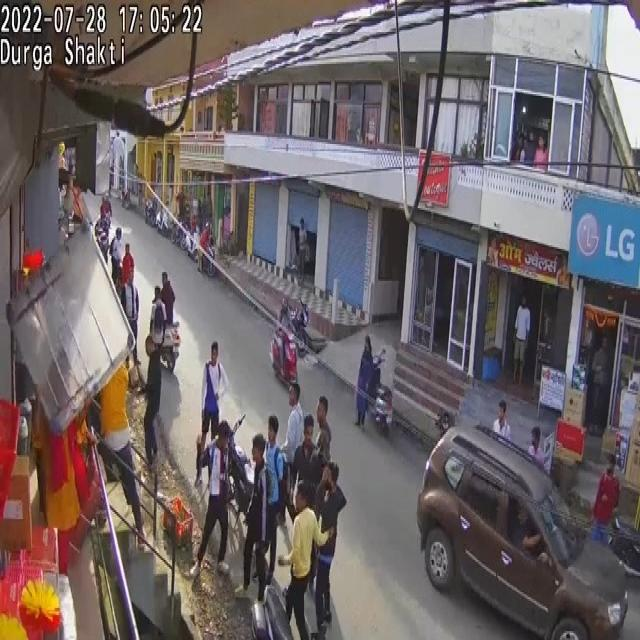fight: (196, 356, 346, 635), (21, 243, 142, 575)
non-fight: (278, 481, 334, 640), (190, 426, 233, 581), (312, 461, 347, 631), (237, 437, 271, 602), (259, 419, 287, 586), (200, 340, 230, 462), (290, 417, 319, 526), (143, 337, 163, 466), (592, 456, 620, 542), (354, 334, 378, 426), (280, 385, 304, 469), (178, 184, 211, 233), (122, 266, 140, 355), (513, 294, 531, 383), (315, 396, 332, 466), (109, 229, 123, 291), (160, 272, 175, 326), (492, 400, 512, 440)
